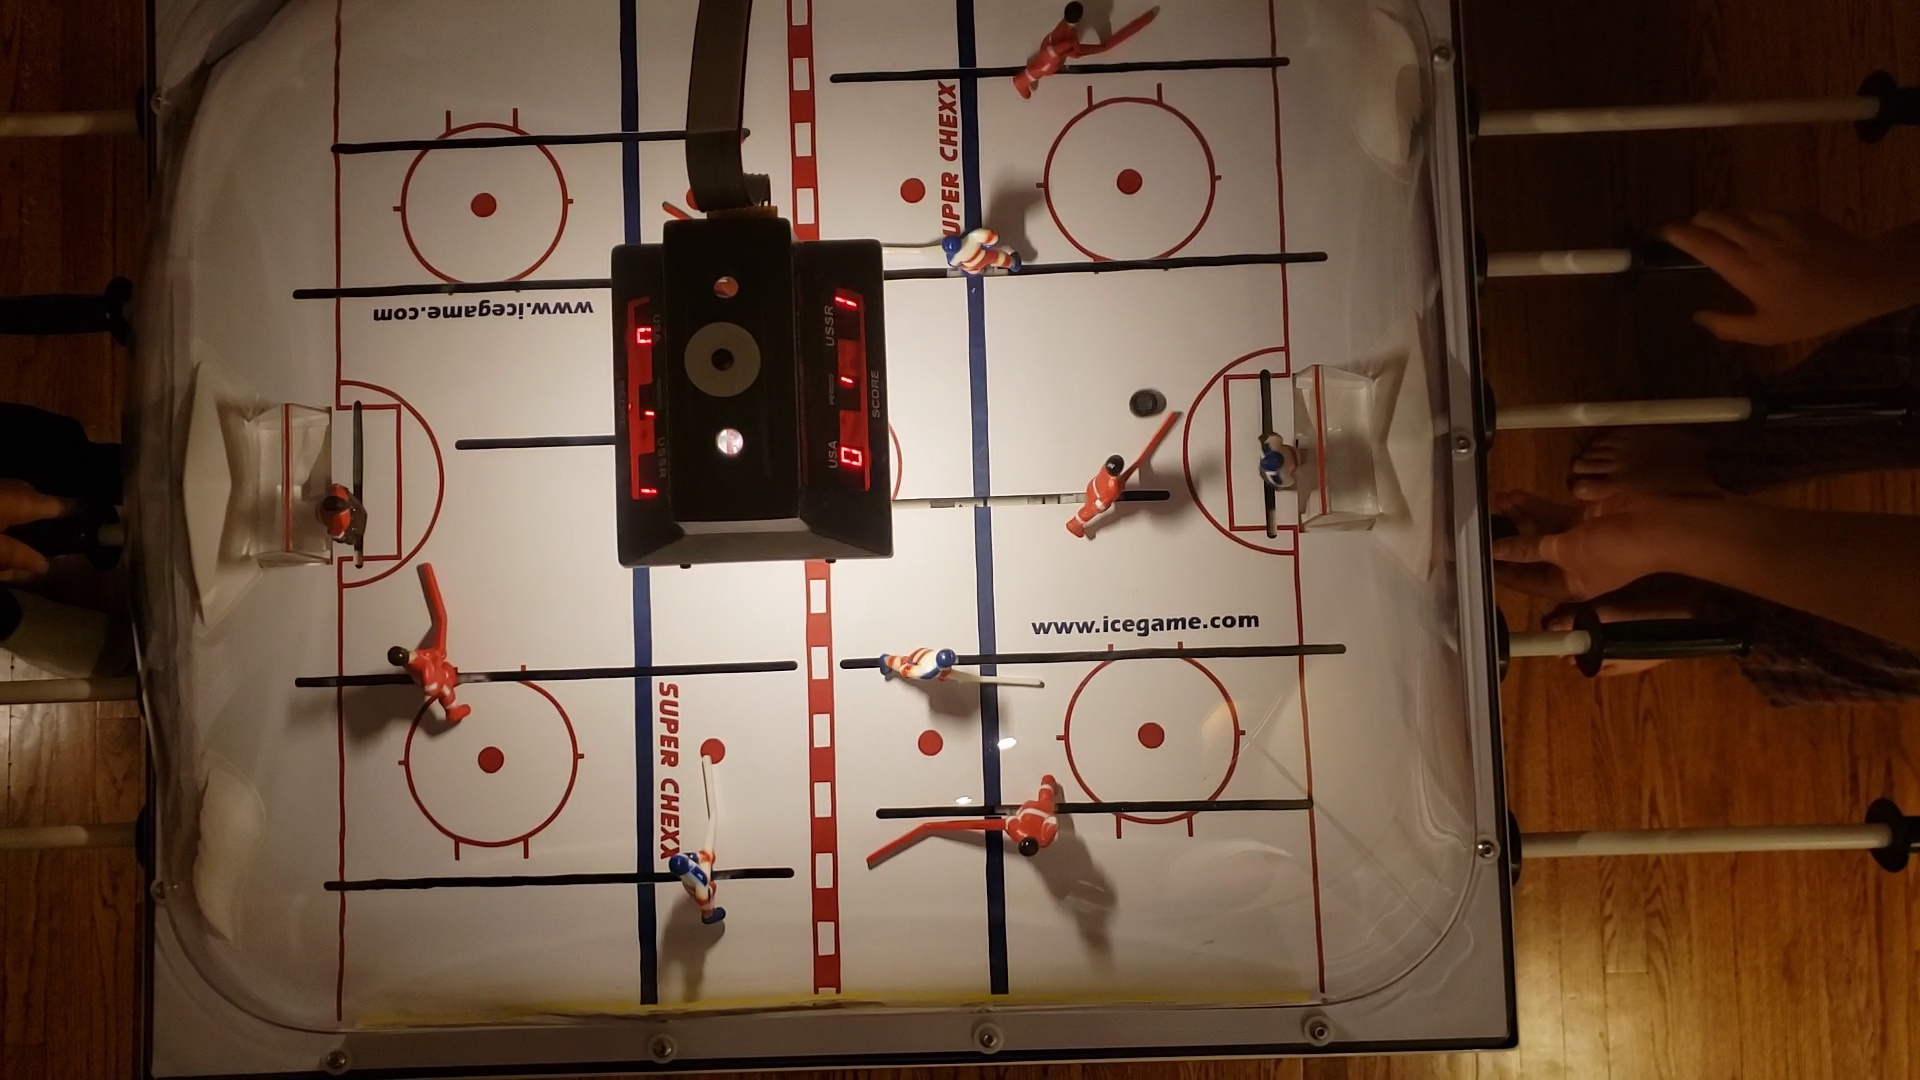puck: (1129, 386, 1160, 418)
